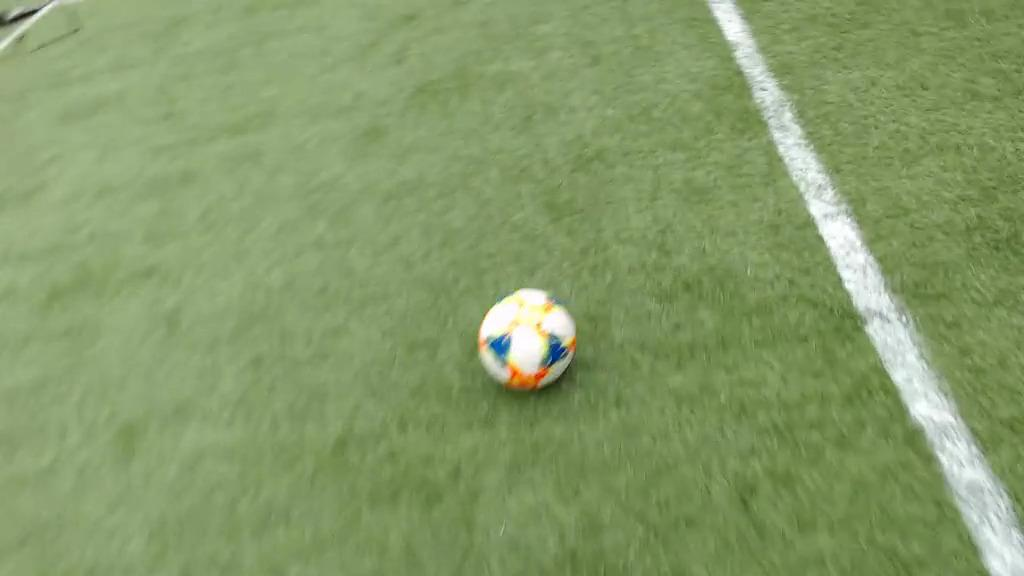ball: (479, 288, 576, 396)
